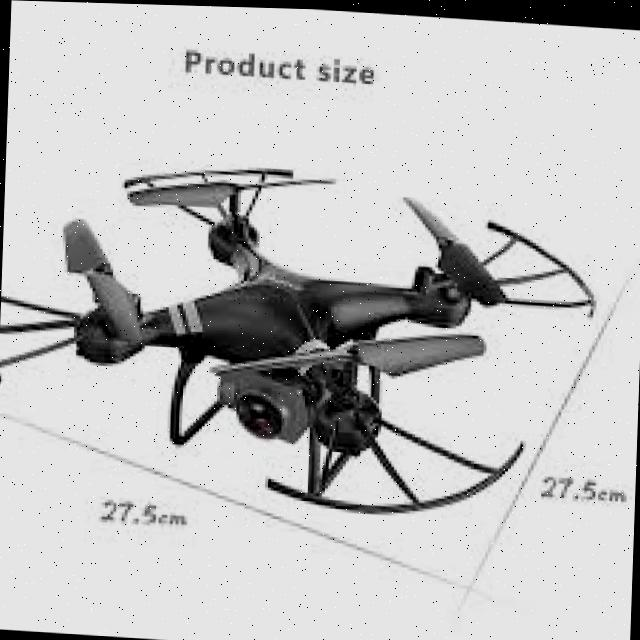drone: (0, 135, 613, 535)
